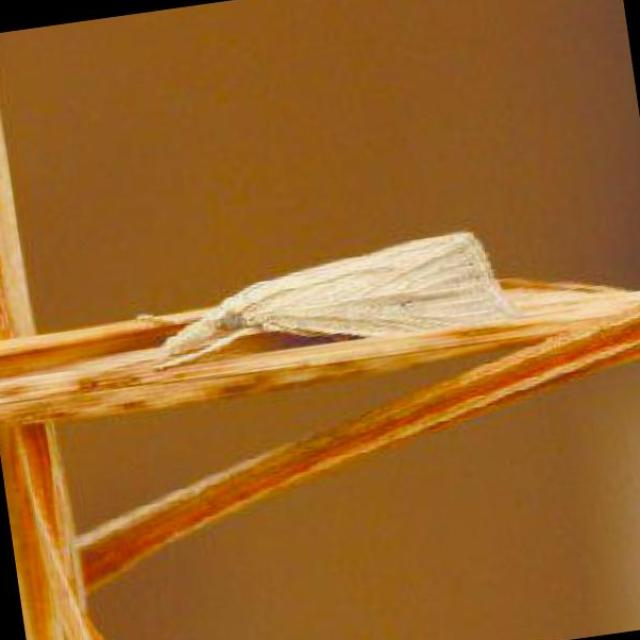stem borer: (163, 232, 512, 364)
